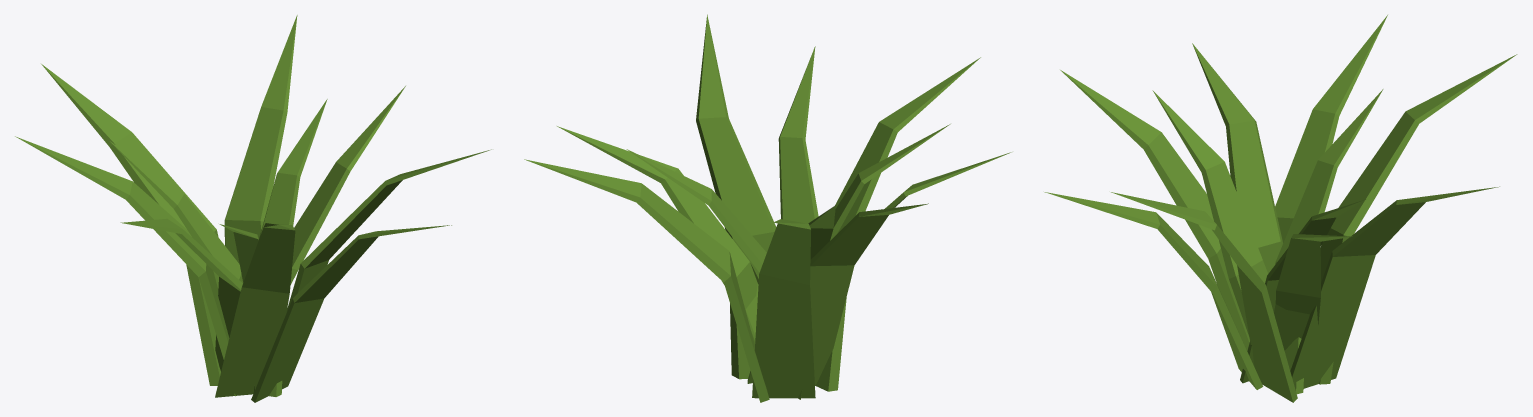
The model's file is grass1.obj.
The picture shows the model from 3 angles, left to right: view 1: azimuth 30°, elevation 25°; view 2: azimuth 150°, elevation 25°; view 3: azimuth 270°, elevation 25°; orthographic projection. The views are drawn at different scales.
Parts seen in each view (by area): view 1: Grass_bush_high_01_Plane.002; view 2: Grass_bush_high_01_Plane.002; view 3: Grass_bush_high_01_Plane.002.
Boxes of the visible parts, x1,y1,x2,y2 form: Grass_bush_high_01_Plane.002: [15, 15, 491, 402]; Grass_bush_high_01_Plane.002: [524, 14, 1011, 402]; Grass_bush_high_01_Plane.002: [1044, 15, 1517, 402].
Size of the model in its own units: 1.84 by 1.22 by 1.92.
Materials: 1 (1 with a texture image).
